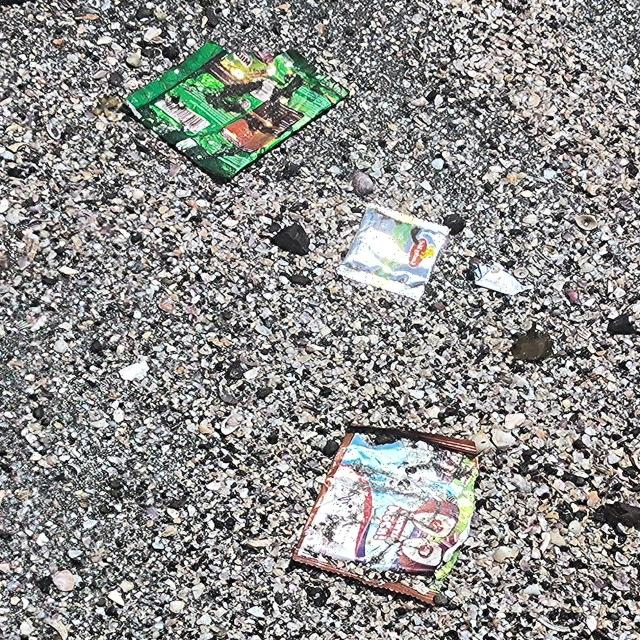plastic_waste: (290, 422, 480, 606), (123, 44, 353, 179), (339, 204, 453, 304)
